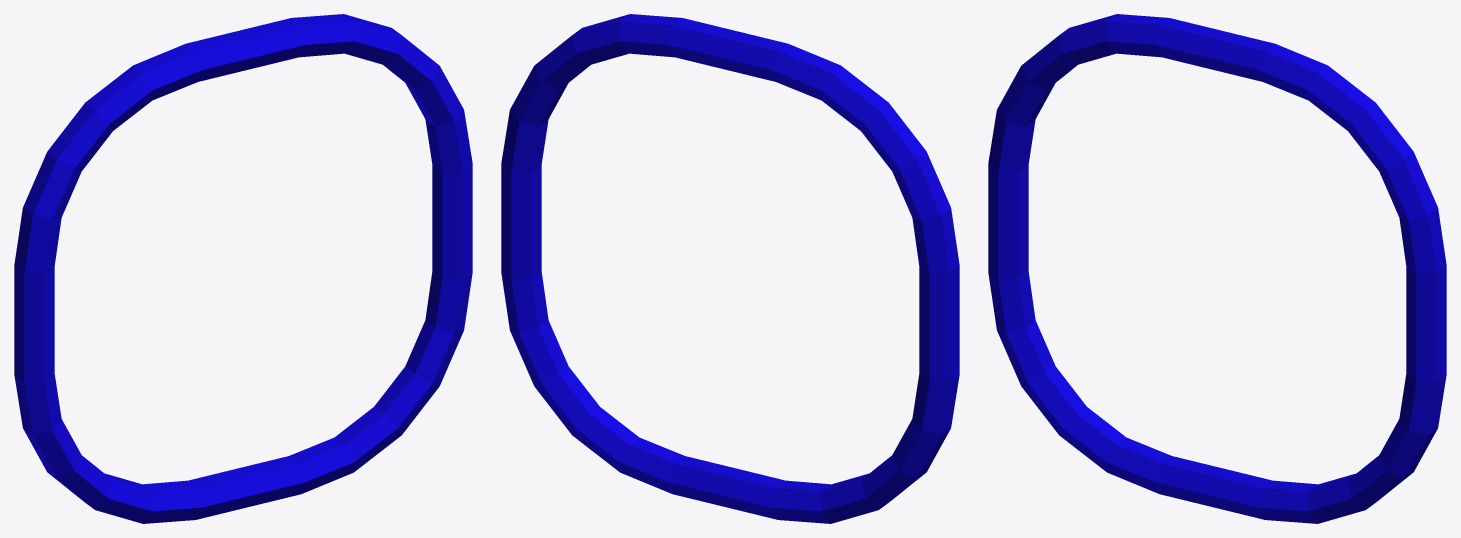
The model's file is frame-center.glb.
3 views of the same model, side by side, from view 1: azimuth 30°, elevation 25°; view 2: azimuth 150°, elevation 25°; view 3: azimuth 330°, elevation 25° (orthographic).
Parts seen in each view (by area): view 1: center.002; view 2: center.002; view 3: center.002.
Part boxes in pixels (x1,y1,x2,y2): center.002: (14,14,472,523); center.002: (501,14,959,523); center.002: (988,14,1446,523).
Bounding box in the file's own units: 1.03 × 1.03 × 0.08.
